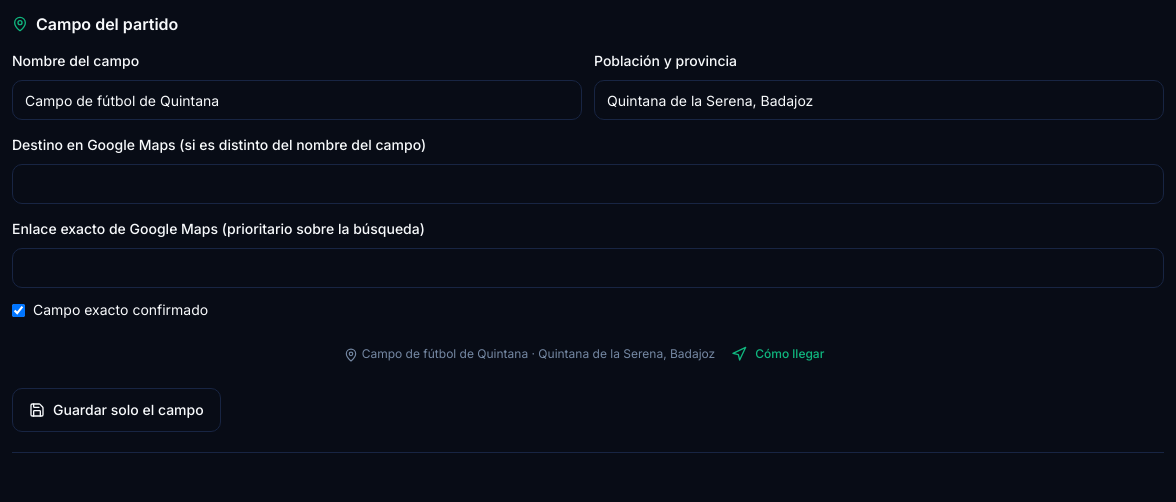
Scenario: Guardar solo campo › muestra el fallo de guardado sin indicar éxito
Click the button "Guardar solo el campo" at (116, 410), box [12,388,221,432]
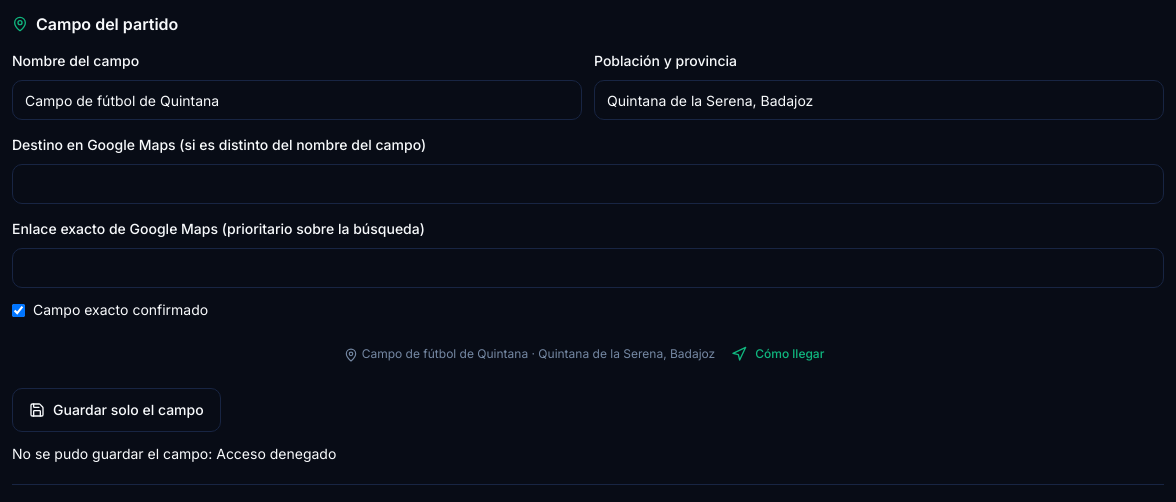
Expected: the message shows "Acceso denegado", [12,445,336,462]
